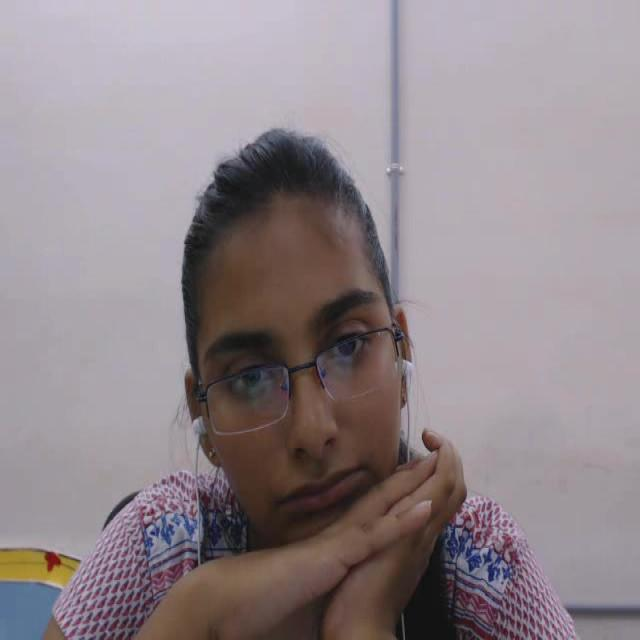Bored: (146, 96, 481, 640)
